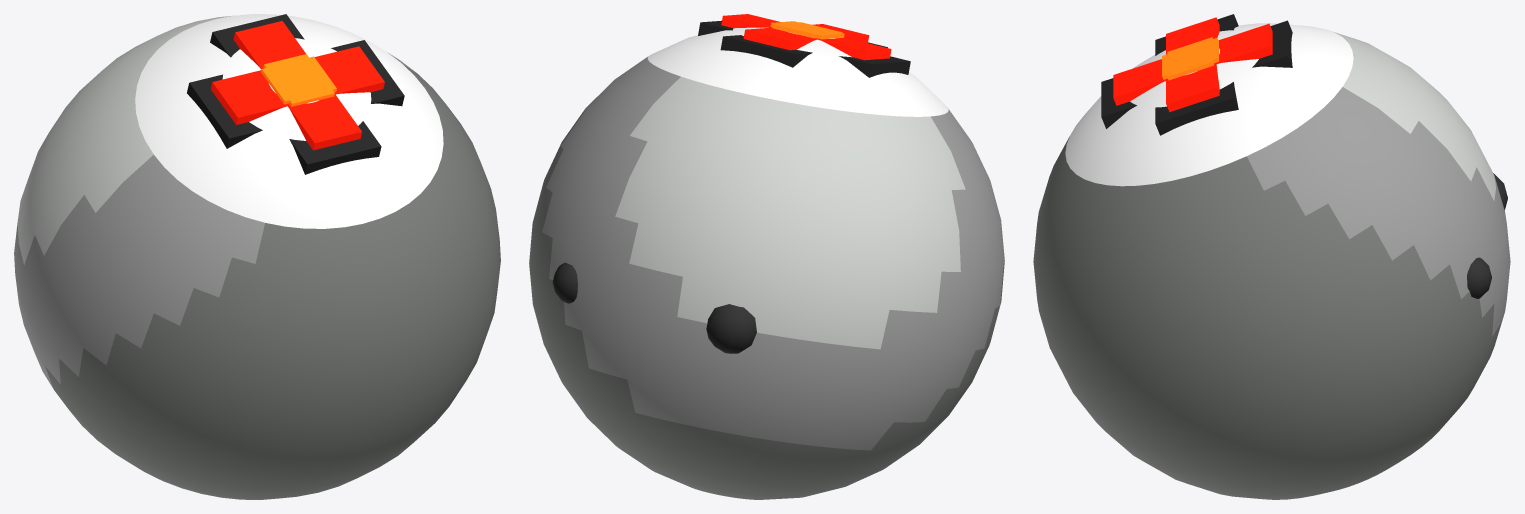
Rendered from seeker_mine_228.glb.
The picture shows the model from 3 angles, left to right: view 1: azimuth 30°, elevation 25°; view 2: azimuth 150°, elevation 25°; view 3: azimuth 270°, elevation 25°; orthographic projection. The views are drawn at different scales.
Visible parts, largest first — view 1: seeker_mine_228; view 2: seeker_mine_228; view 3: seeker_mine_228.
Boxes of the visible parts, x1,y1,x2,y2 form: seeker_mine_228: (14,14,500,499); seeker_mine_228: (529,14,1004,499); seeker_mine_228: (1033,14,1510,499).
Size of the model in its own units: 8.9 by 9.11 by 8.9.
